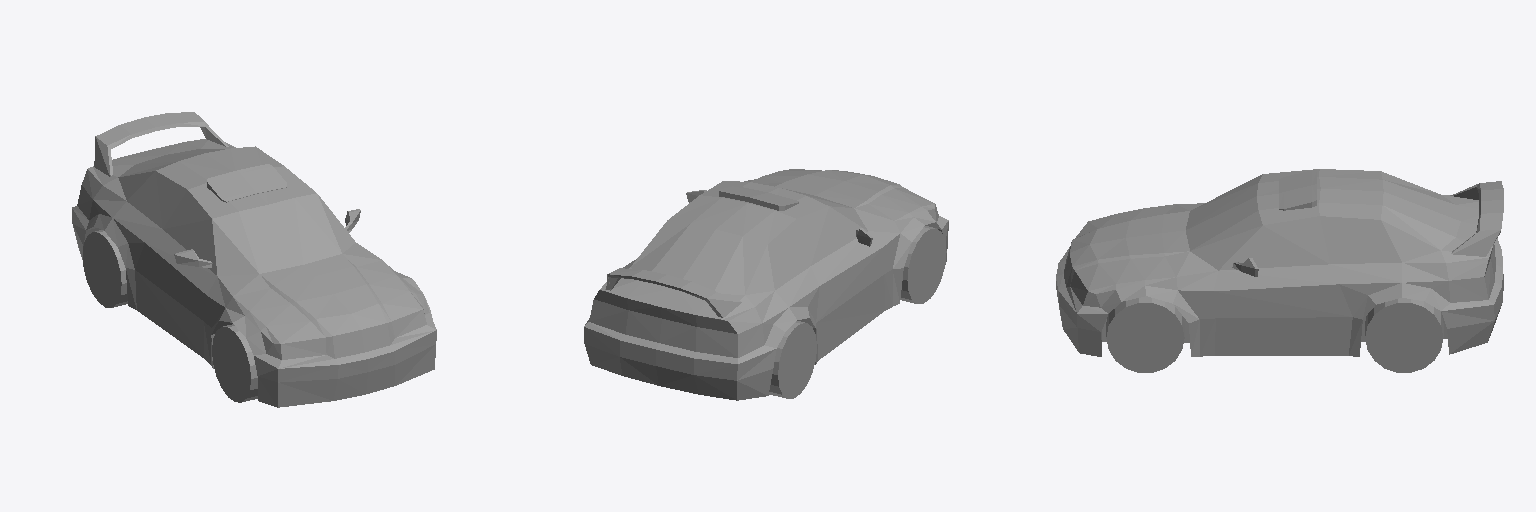
The model's file is bmw.obj.
3 views of the same model, side by side, from view 1: azimuth 30°, elevation 25°; view 2: azimuth 150°, elevation 25°; view 3: azimuth 270°, elevation 25° (orthographic).
Parts seen in each view (by area): view 1: BmwNewUV002; view 2: BmwNewUV002; view 3: BmwNewUV002.
Part boxes in pixels (bbox=[...]): BmwNewUV002: bbox=[72, 112, 436, 407]; BmwNewUV002: bbox=[584, 169, 948, 400]; BmwNewUV002: bbox=[1056, 169, 1503, 372].
Bounding box in the file's own units: 49.23 × 36.57 × 103.